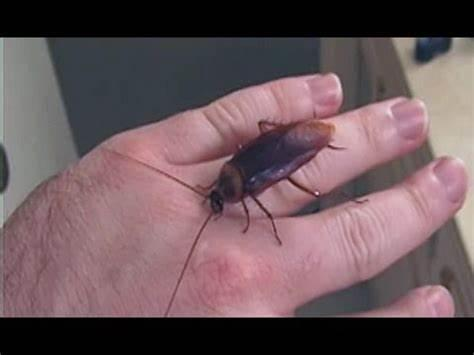cockroach: (208, 119, 338, 218)
